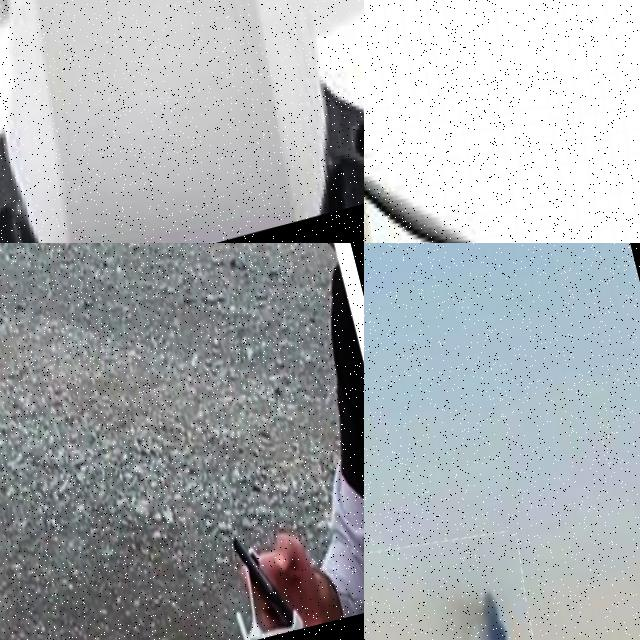0: (364, 511, 576, 640)
drone: (0, 0, 364, 243), (364, 0, 640, 243)
